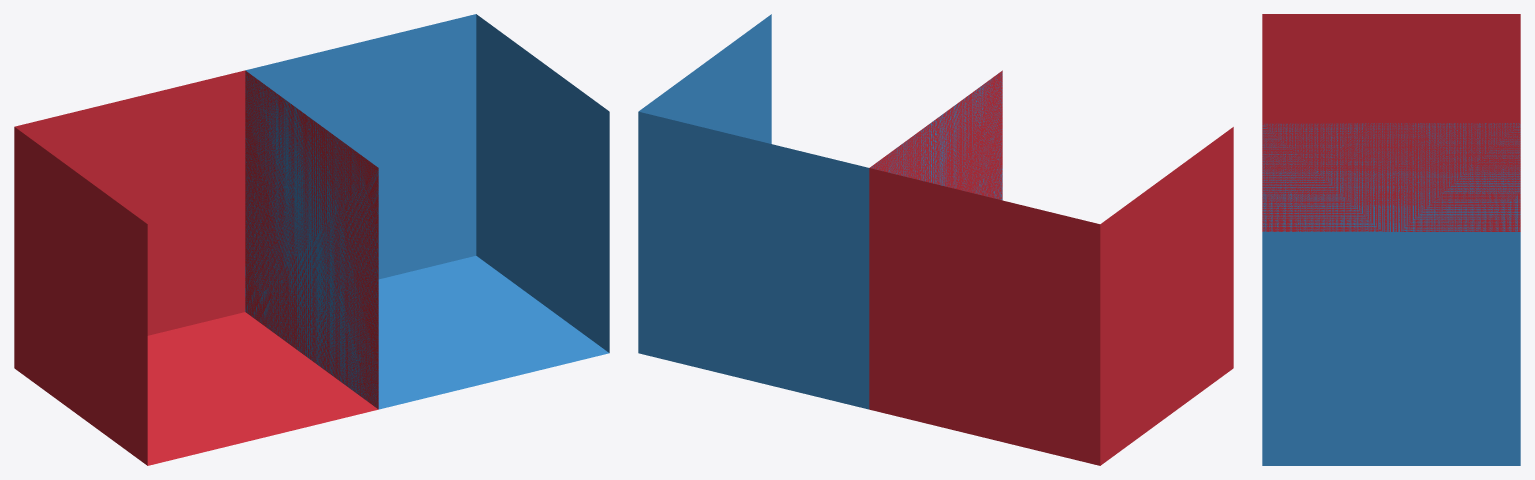
The model's file is two-lights.gltf.
3 renders of one model, left to right at view 1: azimuth 30°, elevation 25°; view 2: azimuth 150°, elevation 25°; view 3: azimuth 270°, elevation 25°, orthographic. The views are drawn at different scales.
Parts seen in each view (by area): view 1: left-cube-node, right-cube-node; view 2: left-cube-node, right-cube-node; view 3: right-cube-node, left-cube-node.
Boxes of the visible parts, bbox=[...] form: left-cube-node: bbox=[14, 70, 378, 465]; right-cube-node: bbox=[245, 14, 609, 409]; left-cube-node: bbox=[869, 70, 1233, 465]; right-cube-node: bbox=[638, 14, 1002, 409]; right-cube-node: bbox=[1262, 123, 1520, 465]; left-cube-node: bbox=[1262, 14, 1520, 231].
Size of the model in its own units: 4 by 2 by 2.
